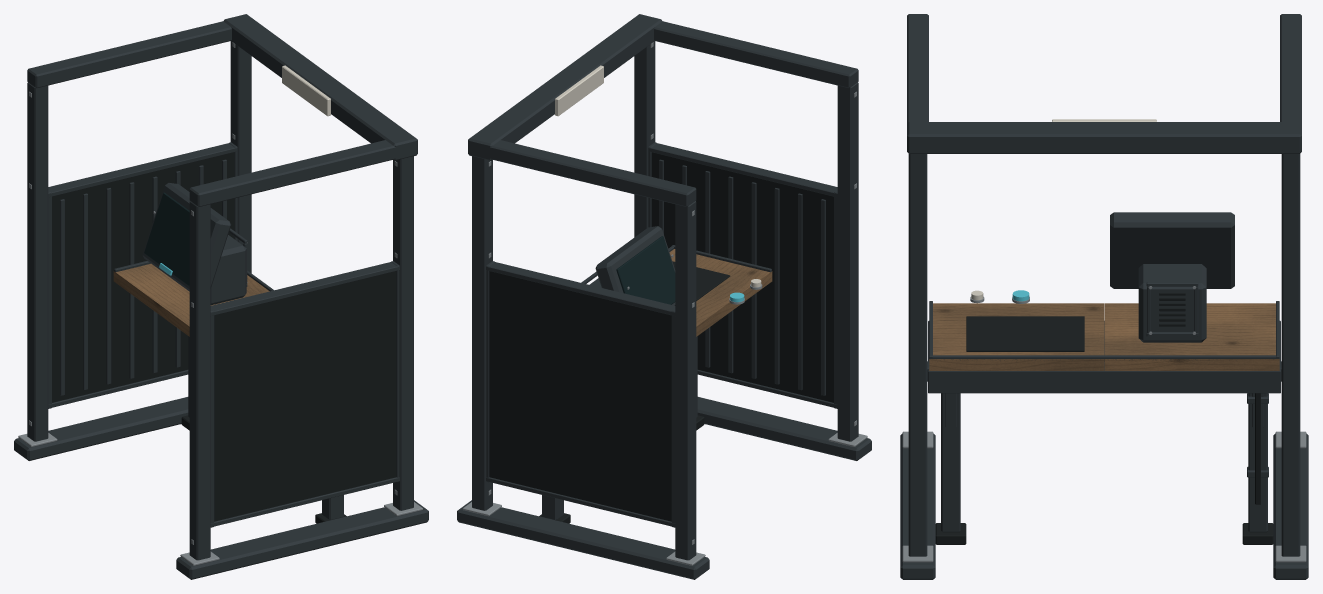
3 views of the same model, side by side, from view 1: azimuth 30°, elevation 25°; view 2: azimuth 150°, elevation 25°; view 3: azimuth 270°, elevation 25° (orthographic). The views are drawn at different scales.
Visible parts, largest first — view 1: Mesh_Body_paint, Mesh_Body_rubber, Mesh_Body_oak, Mesh_Body_screen, Mesh_Body_cream, Mesh_Body_steel; view 2: Mesh_Body_paint, Mesh_Body_rubber, Mesh_Body_oak, Mesh_Body_screen, Mesh_Body_cream, Mesh_Body_steel; view 3: Mesh_Body_paint, Mesh_Body_oak, Mesh_Body_rubber, Mesh_Body_steel.
Part boxes in pixels (x1,y1,x2,y2): Mesh_Body_paint: [14, 14, 428, 579]; Mesh_Body_rubber: [52, 152, 396, 523]; Mesh_Body_oak: [113, 263, 269, 336]; Mesh_Body_screen: [144, 192, 189, 286]; Mesh_Body_cream: [282, 65, 330, 116]; Mesh_Body_steel: [18, 42, 422, 565]; Mesh_Body_paint: [457, 14, 871, 579]; Mesh_Body_rubber: [489, 152, 833, 523]; Mesh_Body_oak: [669, 249, 772, 336]; Mesh_Body_screen: [616, 236, 675, 304]; Mesh_Body_cream: [555, 65, 761, 287]; Mesh_Body_steel: [463, 42, 867, 565]; Mesh_Body_paint: [900, 14, 1308, 579]; Mesh_Body_oak: [929, 303, 1279, 370]; Mesh_Body_rubber: [935, 293, 1273, 544]; Mesh_Body_steel: [902, 286, 1306, 562].
Bounding box in the file's own units: 1.45 × 2.22 × 1.86.
7 materials, 1 textured.
